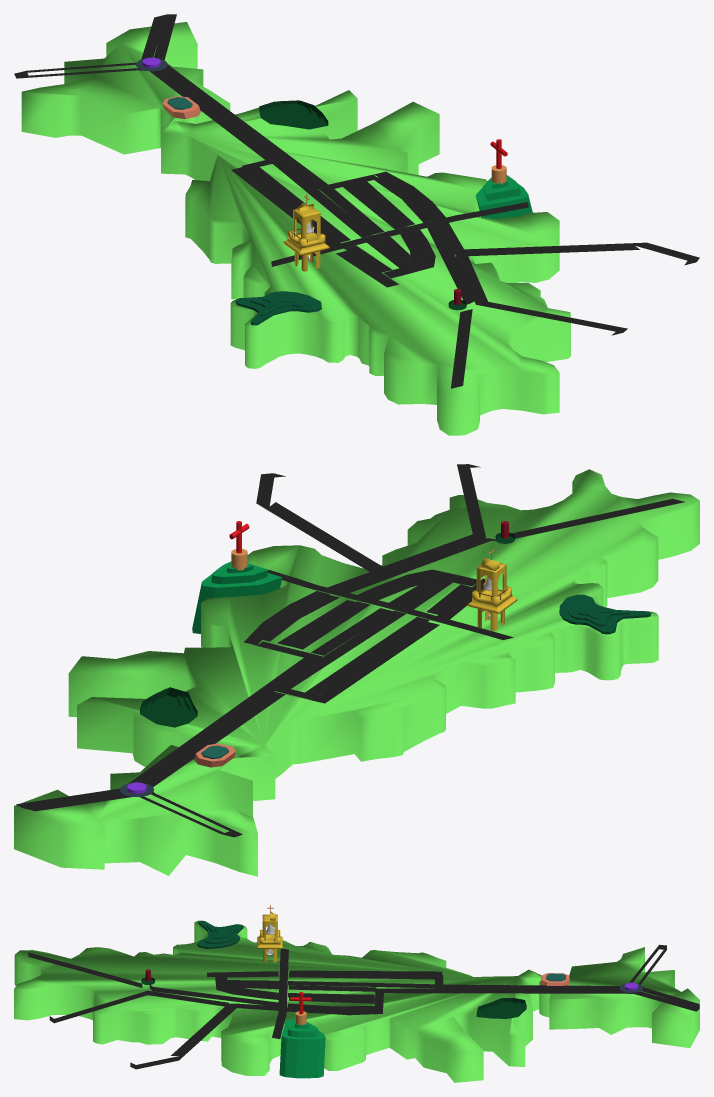
Rendered from Mapa.glb.
3 views of the same model, one above another, from view 1: azimuth 30°, elevation 25°; view 2: azimuth 150°, elevation 25°; view 3: azimuth 270°, elevation 25° (orthographic). The views are drawn at different scales.
Visible parts, largest first — view 1: mapa, vias, Plane.001, Plane.008, Plane.005; view 2: mapa, vias, Plane.001, Plane.008, Plane.003, Plane.005, Cube.003; view 3: mapa, vias, Plane.001, Plane.008, Plane.005, Plane.003, Plane.006, Plane.007, Plane.009.
Boxes of the visible parts, x1=… form: mapa: x1=21, y1=22, x2=570, y2=435; vias: x1=14, y1=14, x2=699, y2=388; Plane.001: x1=475, y1=183, x2=532, y2=219; Plane.008: x1=235, y1=291, x2=321, y2=325; Plane.005: x1=259, y1=100, x2=328, y2=129; mapa: x1=14, y1=469, x2=699, y2=876; vias: x1=16, y1=464, x2=684, y2=837; Plane.001: x1=192, y1=573, x2=282, y2=633; Plane.008: x1=559, y1=594, x2=650, y2=634; Plane.003: x1=211, y1=561, x2=268, y2=584; Plane.005: x1=140, y1=687, x2=197, y2=727; Cube.003: x1=476, y1=562, x2=506, y2=599; mapa: x1=14, y1=920, x2=699, y2=1082; vias: x1=28, y1=944, x2=699, y2=1069; Plane.001: x1=279, y1=1020, x2=325, y2=1078; Plane.008: x1=197, y1=920, x2=243, y2=948; Plane.005: x1=476, y1=998, x2=526, y2=1018; Plane.003: x1=287, y1=1018, x2=318, y2=1037; Plane.006: x1=483, y1=998, x2=522, y2=1014; Plane.007: x1=141, y1=977, x2=517, y2=1010; Plane.009: x1=205, y1=924, x2=237, y2=943.
Size of the model in its own units: 6.24 by 1.64 by 12.11.
Materials: 17 (1 with a texture image).
